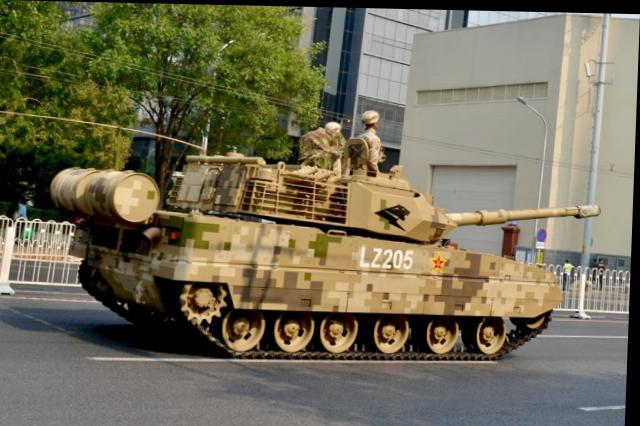other: (306, 118, 344, 162), (359, 106, 384, 158)
tank: (69, 139, 560, 356)
